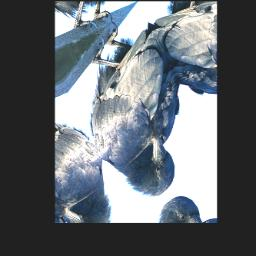Crow: (56, 2, 215, 218)
